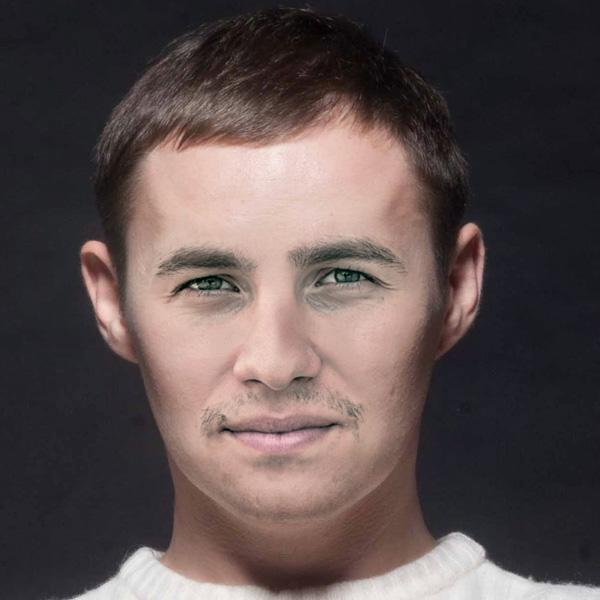Eyes: (165, 266, 252, 308), (303, 261, 392, 301)
